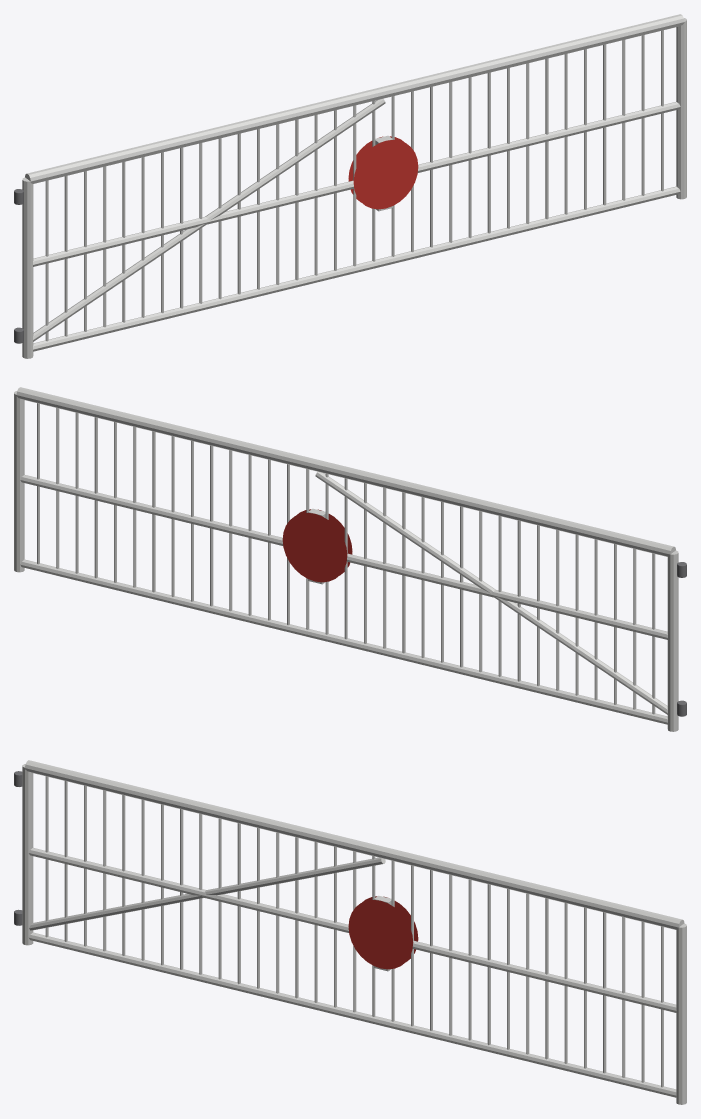
File: rail.crossing.gate_45.glb
3 renders of one model, top to bottom at view 1: azimuth 30°, elevation 25°; view 2: azimuth 150°, elevation 25°; view 3: azimuth 330°, elevation 25°, orthographic.
Visible parts, largest first — view 1: main__paint_eed, main__paint_c33; view 2: main__paint_eed, main__paint_c33; view 3: main__paint_eed, main__paint_c33.
Boxes of the visible parts, bbox=[...] form: main__paint_eed: bbox=[22, 14, 686, 358]; main__paint_c33: bbox=[348, 136, 418, 209]; main__paint_eed: bbox=[14, 387, 678, 731]; main__paint_c33: bbox=[282, 509, 352, 582]; main__paint_eed: bbox=[22, 760, 686, 1104]; main__paint_c33: bbox=[348, 896, 418, 969].
Bounding box in the file's own units: 4.56 × 1.18 × 0.07.
